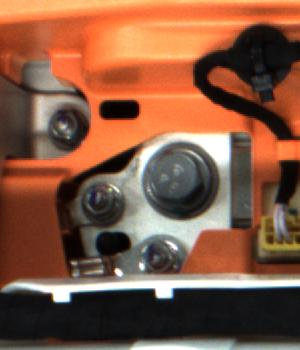nut_b: (138, 144, 217, 219)
screw_s: (82, 185, 122, 227), (42, 106, 81, 148), (142, 237, 175, 272)
